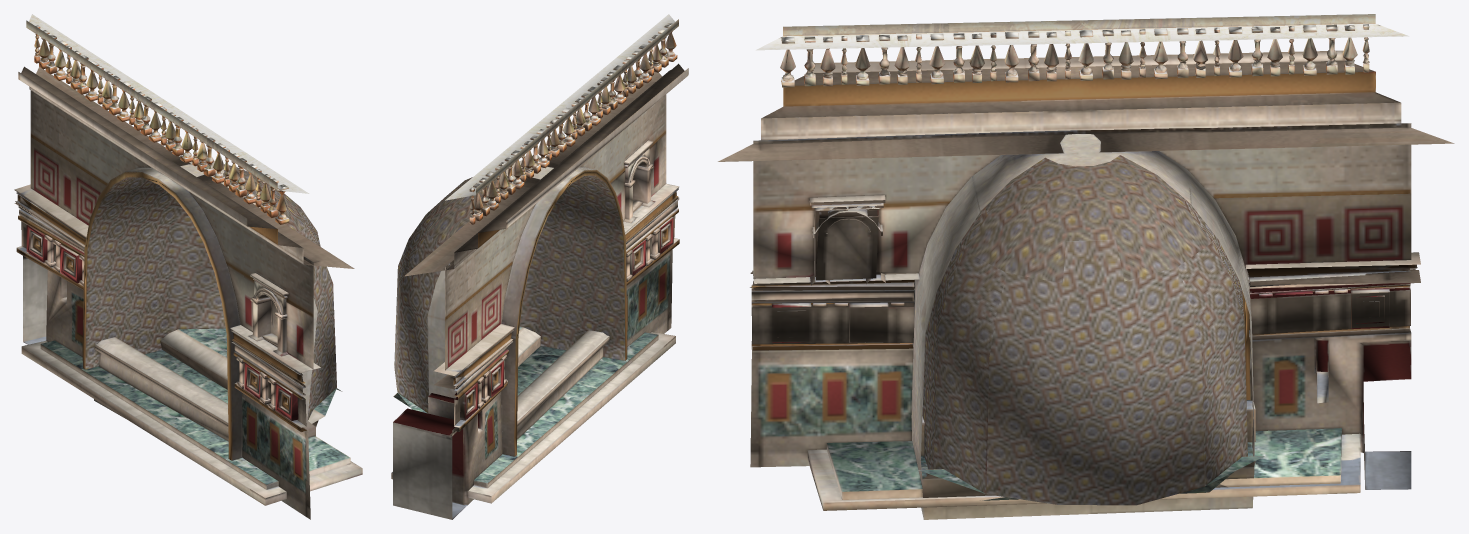
File: Wall04.gltf
The picture shows the model from 3 angles, left to right: view 1: azimuth 30°, elevation 25°; view 2: azimuth 150°, elevation 25°; view 3: azimuth 270°, elevation 25°; orthographic projection. The views are drawn at different scales.
Parts seen in each view (by area): view 1: Wall04; view 2: Wall04; view 3: Wall04.
Boxes of the visible parts, box(x1,y1,x2,y2) form: Wall04: box(14, 14, 362, 519); Wall04: box(391, 14, 688, 519); Wall04: box(718, 14, 1454, 519).
Size of the model in its own units: 7.01 by 11.96 by 17.69.
Materials: 2 (2 with a texture image).
